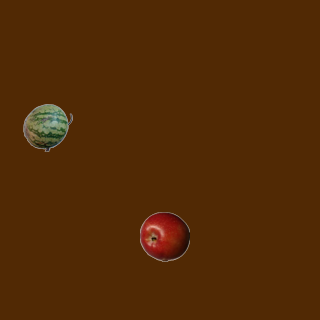Apple Braeburn: (139, 211, 189, 261)
Watermelon: (22, 102, 72, 152)
